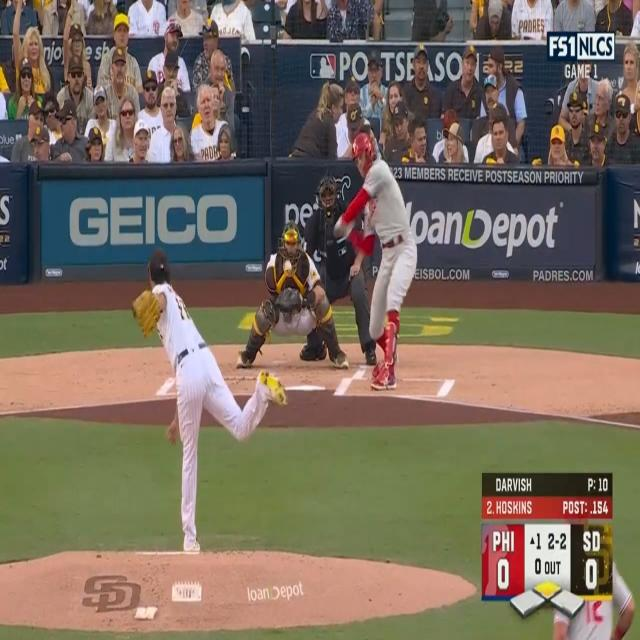baseball: (284, 260, 292, 272)
